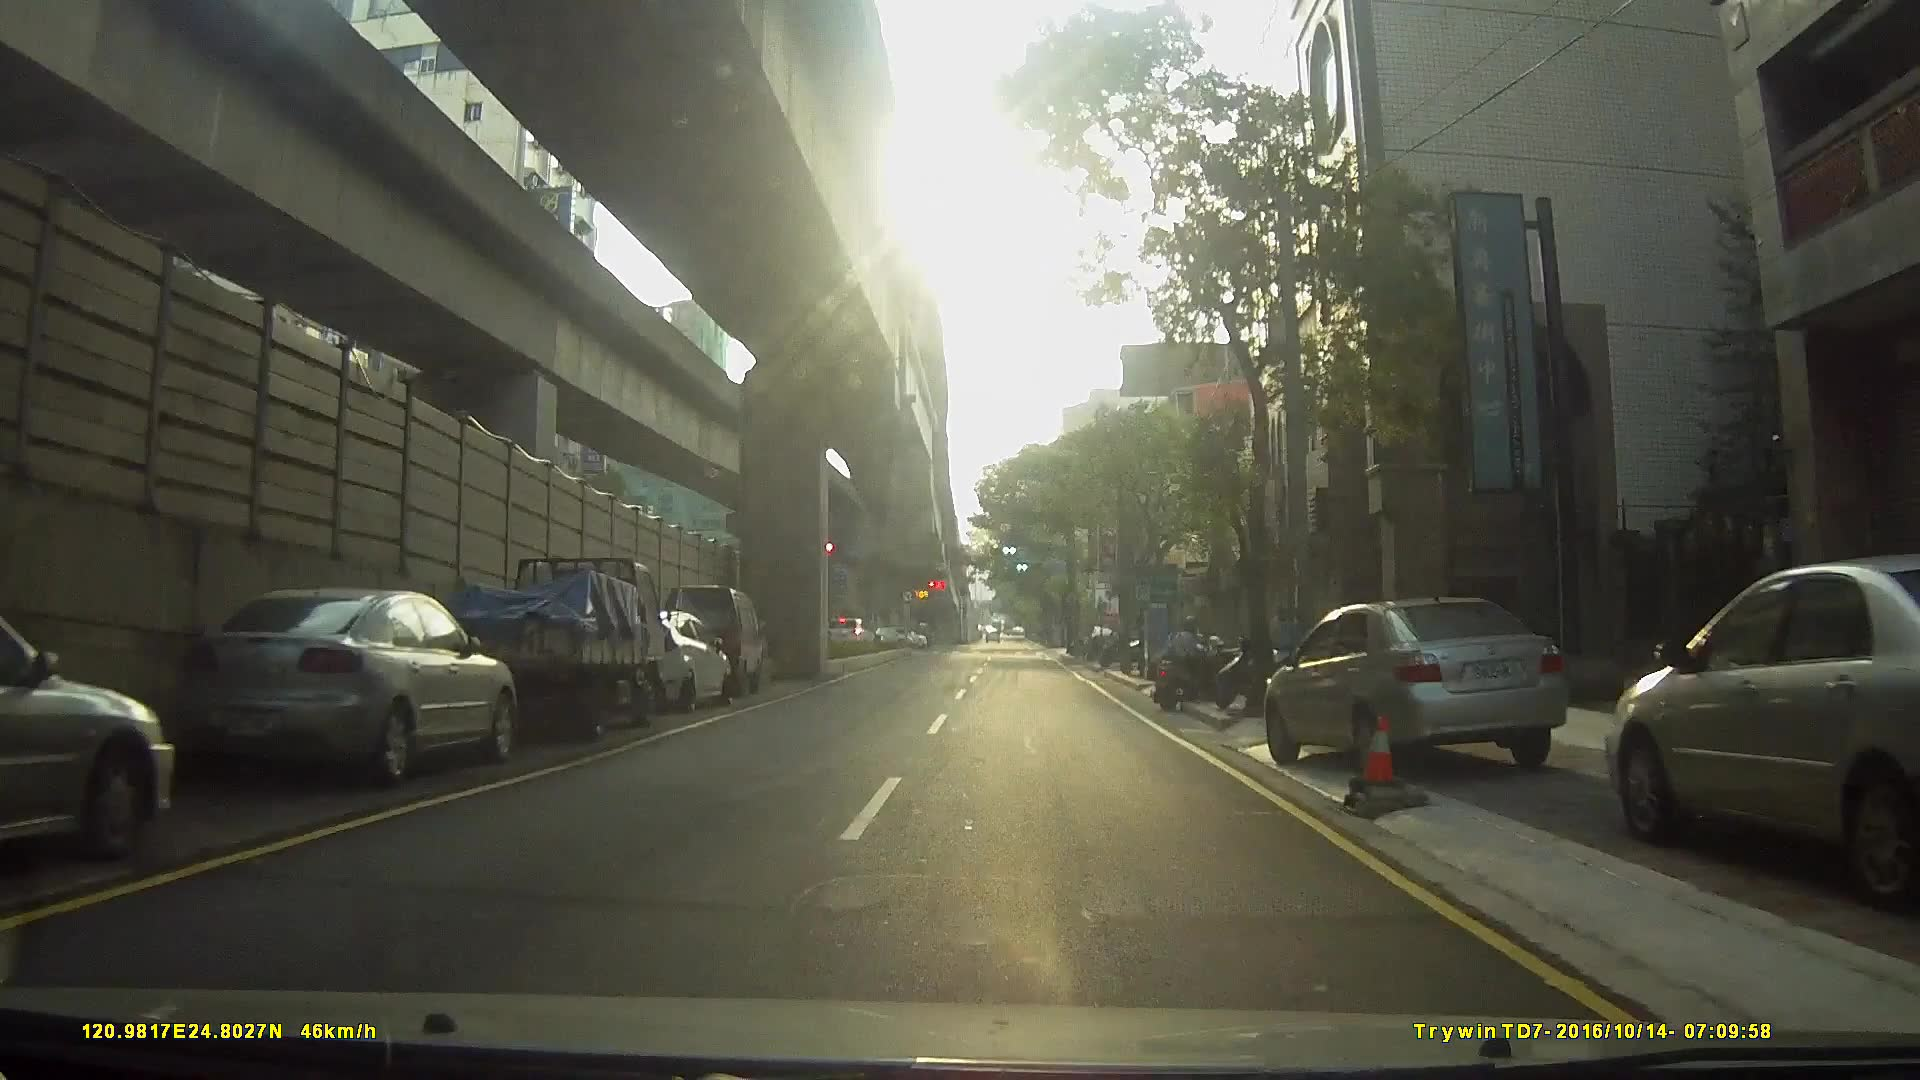rider: (1151, 618, 1235, 713)
vehicle: (1596, 552, 1918, 905), (181, 582, 529, 802), (1246, 591, 1583, 778), (423, 558, 702, 736), (1, 615, 171, 873), (592, 605, 731, 716), (657, 584, 767, 697), (821, 615, 876, 651)
